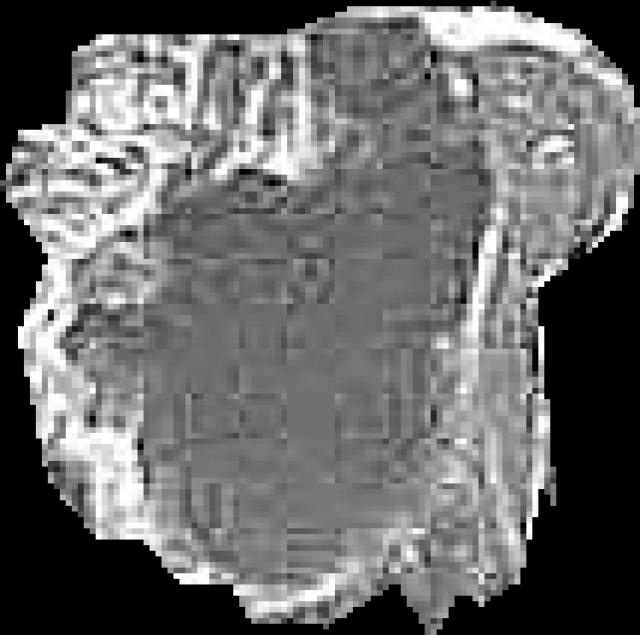tumor_moderate_chance: (0, 1, 640, 635)
